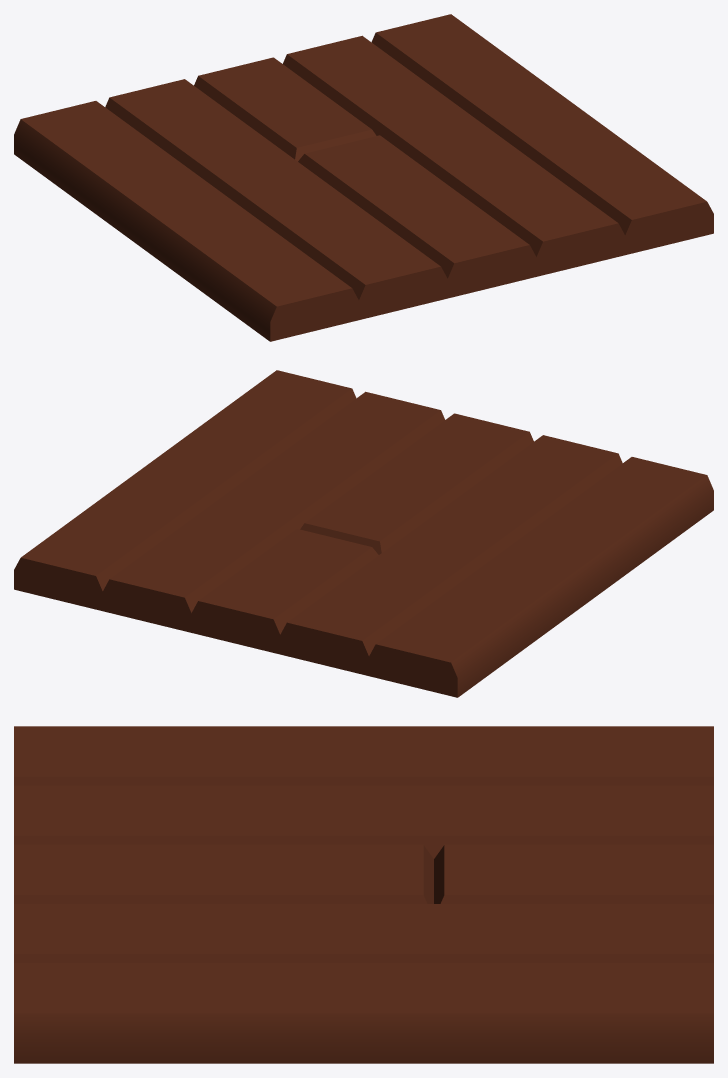
The model's file is Wood_Floor_3.fbx.
The picture shows the model from 3 angles, top to bottom: view 1: azimuth 30°, elevation 25°; view 2: azimuth 150°, elevation 25°; view 3: azimuth 270°, elevation 25°; orthographic projection. The views are drawn at different scales.
Parts seen in each view (by area): view 1: Wood_Floor_4_LOD0; view 2: Wood_Floor_4_LOD0; view 3: Wood_Floor_4_LOD0.
Part boxes in pixels (left/top/right/bottom): Wood_Floor_4_LOD0: left=14, top=14, right=713, bottom=341; Wood_Floor_4_LOD0: left=14, top=370, right=713, bottom=697; Wood_Floor_4_LOD0: left=14, top=726, right=713, bottom=1063.
Size of what is drawn, in the model's own units: 0.01 by 0.000724 by 0.01.
